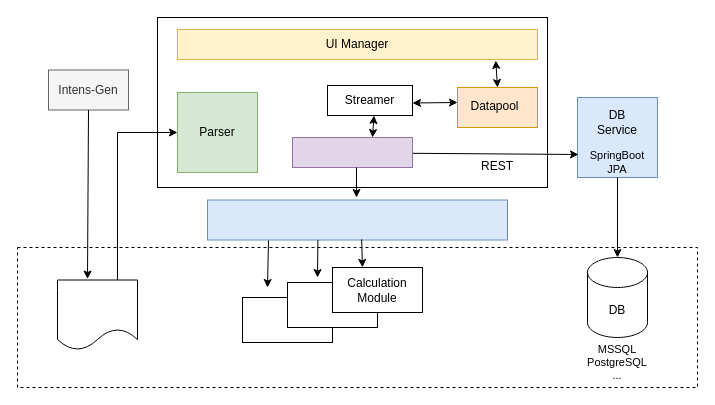
Some shapes in this 715 by 405 pixel diagram are drawn without their labels. Here are the shapes that lost their labels. From the top down, the centre of each, then its label:
At point 352,152: "Operator".
At point 357,219: "API Gateway".
At point 97,314: "Configuration".
